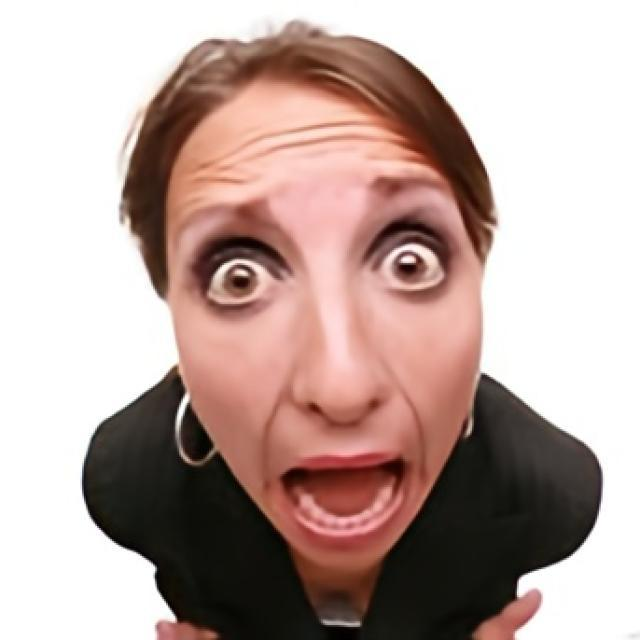fear: (165, 70, 484, 578)
